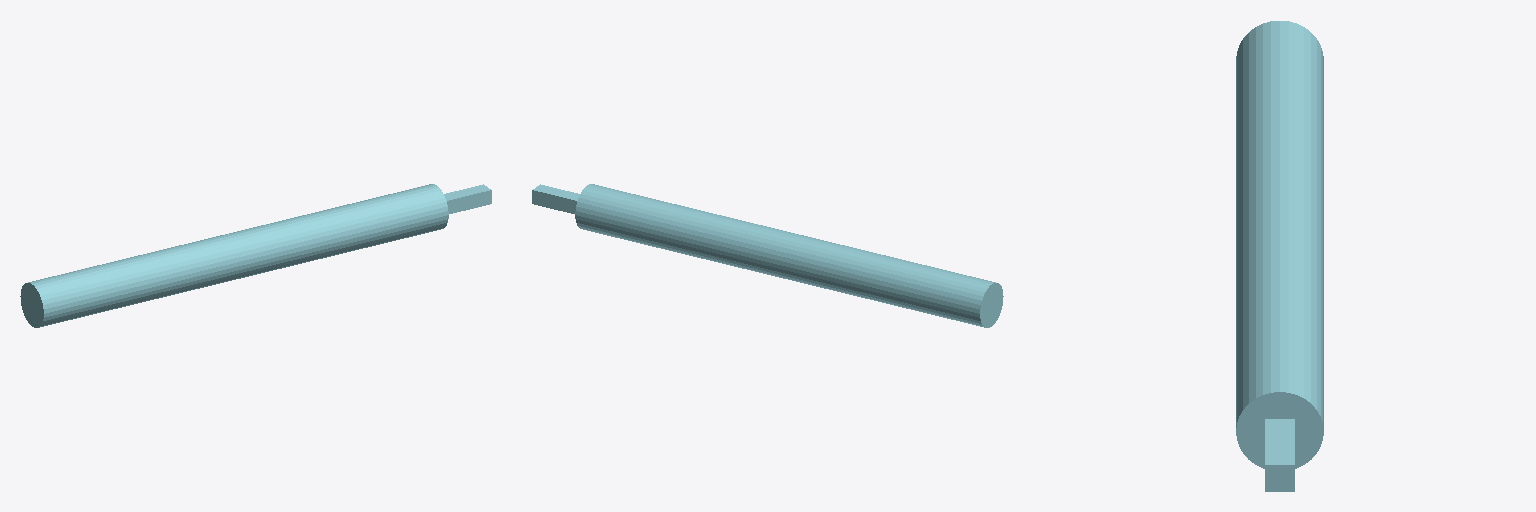
The robot description file, URDF, robot "thin_marker":
<?xml version="1.0"?>
<robot name="thin_marker">

  <link name="thin_marker">
    <!-- Handle -->
    <visual>
      <origin xyz="0 0 0" rpy="0 1.5707963267948966 0"/>
      <geometry>
        <cylinder length="0.12" radius="0.006"/>
      </geometry>
      <material name="material">
        <color rgba="0.639 0.847 0.882 1.0"/>
      </material>
    </visual>
    <collision>
      <origin xyz="0 0 0" rpy="0 1.5707963267948966 0"/>
      <geometry>
        <cylinder length="0.12" radius="0.006"/>
      </geometry>
    </collision>

    <!-- Head -->
    <visual>
      <origin xyz="0.0675 0 0" rpy="0 0 0"/>
      <geometry>
        <box size="0.015 0.004 0.004"/>
      </geometry>
      <material name="material">
        <color rgba="0.639 0.847 0.882 1.0"/>
      </material>
    </visual>
    <collision>
      <origin xyz="0.0675 0 0" rpy="0 0 0"/>
      <geometry>
        <box size="0.015 0.004 0.004"/>
      </geometry>
    </collision>

    <inertial>
      <density value="400.0"/>
    </inertial>
  </link>

</robot>

--- Render facts (derived) ---
3 views of the same robot in one strip: view 1: azimuth 30°, elevation 25°; view 2: azimuth 150°, elevation 25°; view 3: azimuth 270°, elevation 25° (orthographic).
Model thin_marker with 1 links and 0 joints (none), rooted at thin_marker, posed every joint at zero.
Visible links, largest first — view 1: thin_marker; view 2: thin_marker; view 3: thin_marker.
Link boxes in pixels (bbox=[...]): thin_marker: bbox=[20, 184, 491, 327]; thin_marker: bbox=[532, 184, 1003, 327]; thin_marker: bbox=[1236, 21, 1323, 491].
Size in the robot's own frame: 0.135 by 0.012 by 0.012 metres.
Geometry: primitives only (box / cylinder / sphere), no mesh files.
